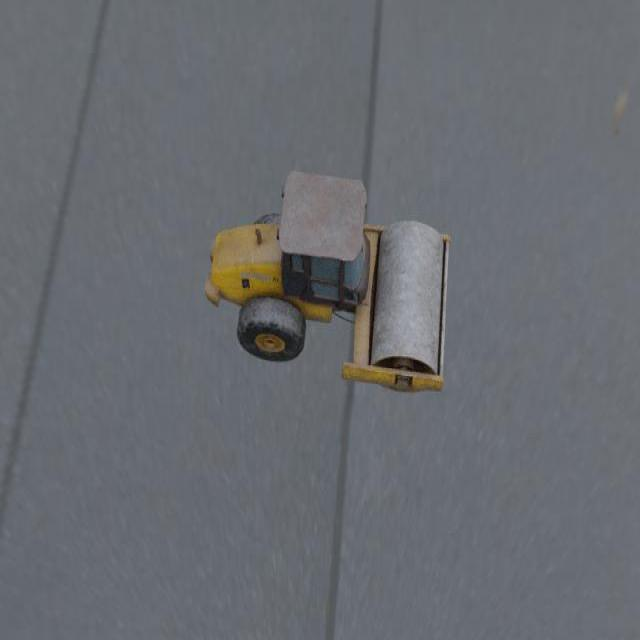Roller: (204, 170, 450, 393)
